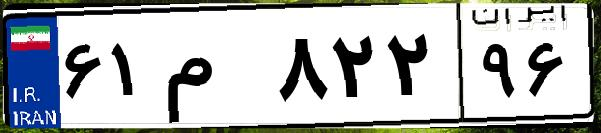1: (110, 28, 158, 98)
2: (385, 28, 445, 110), (330, 28, 385, 110)
6: (57, 26, 110, 100), (525, 38, 570, 115)
8: (270, 28, 330, 110)
9: (475, 38, 525, 113)
م: (158, 20, 270, 120)
